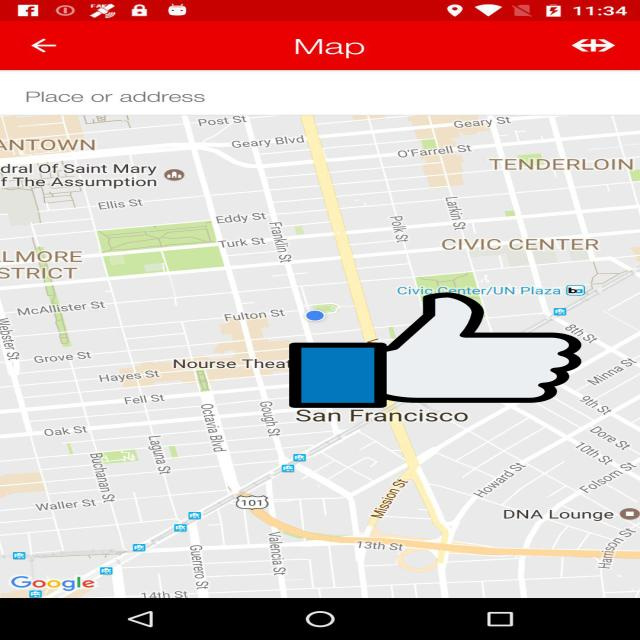privacy zuckering: (289, 290, 582, 410)
